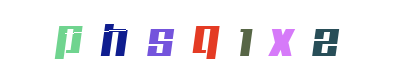1: (166, 0, 246, 80)
2: (259, 0, 339, 80)
H: (73, 0, 153, 80)
P: (47, 0, 127, 80)
Q: (163, 0, 243, 80)
S: (116, 0, 196, 80)
X: (225, 0, 305, 80)
